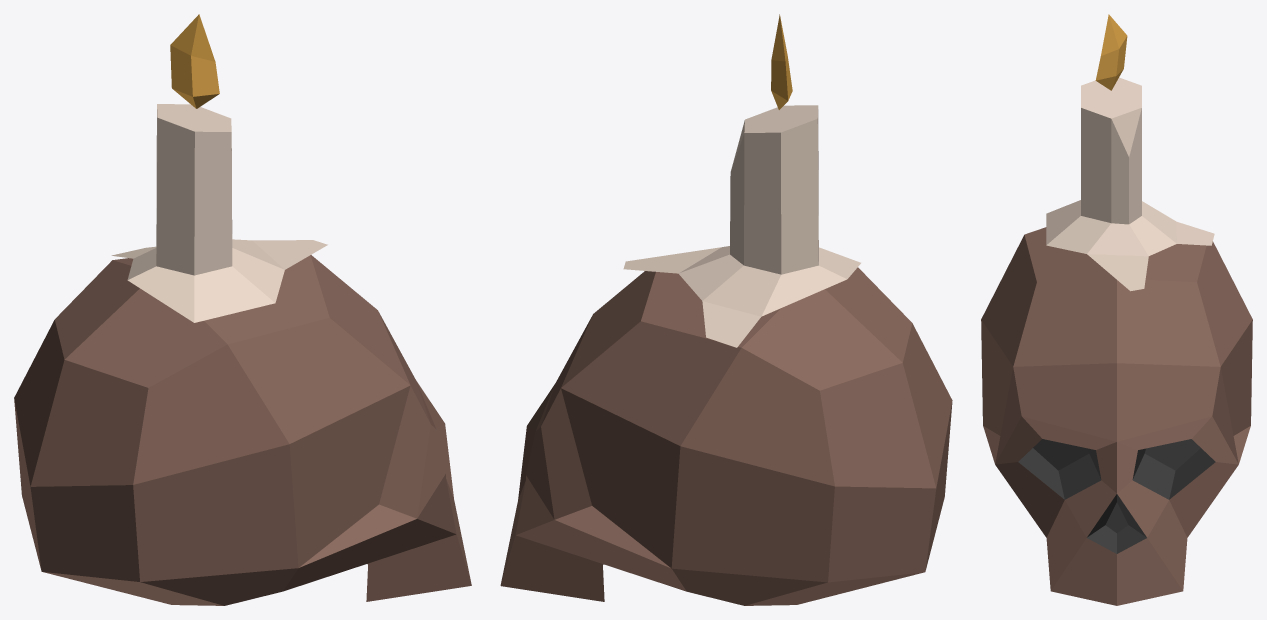
Rendered from Caveira_vela.fbx.
The picture shows the model from 3 angles, left to right: view 1: azimuth 30°, elevation 25°; view 2: azimuth 150°, elevation 25°; view 3: azimuth 270°, elevation 25°; orthographic projection. The views are drawn at different scales.
Visible parts, largest first — view 1: skull-human-candle; view 2: skull-human-candle; view 3: skull-human-candle.
Part boxes in pixels (x1=…): skull-human-candle: x1=14, y1=14, x2=471, y2=605; skull-human-candle: x1=500, y1=14, x2=952, y2=605; skull-human-candle: x1=981, y1=14, x2=1252, y2=605.
Bounding box in the file's own units: 102 × 139 × 69.86.
